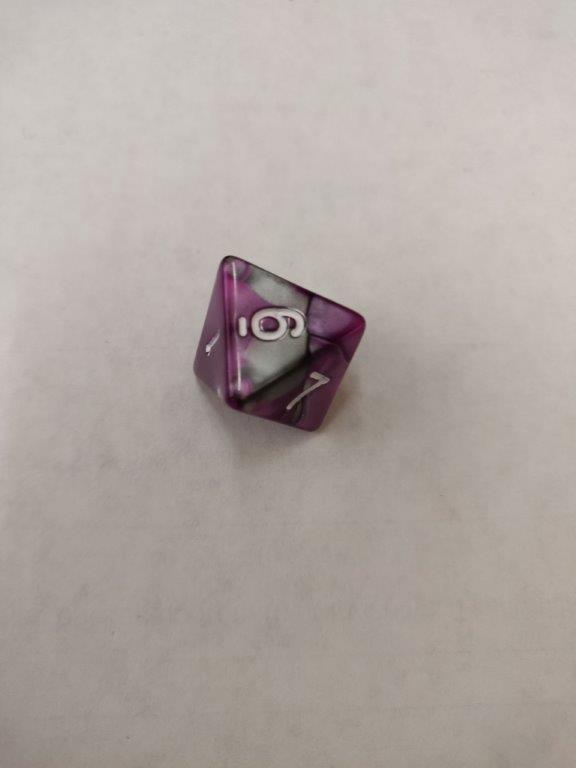d8-6: (190, 255, 366, 435)
